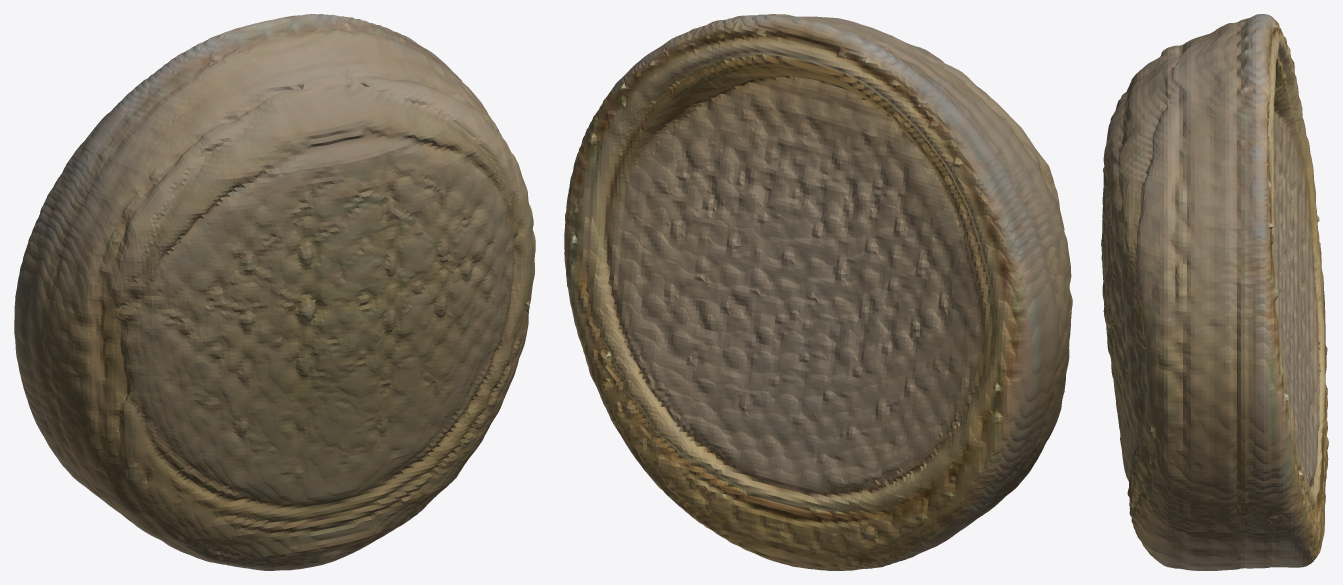
The picture shows the model from 3 angles, left to right: view 1: azimuth 30°, elevation 25°; view 2: azimuth 150°, elevation 25°; view 3: azimuth 270°, elevation 25°; orthographic projection. The views are drawn at different scales.
Parts seen in each view (by area): view 1: world; view 2: world; view 3: world.
Part boxes in pixels (<box>): world: <box>14,14,535,570</box>; world: <box>564,14,1072,570</box>; world: <box>1101,14,1328,570</box>.
Size of the model in its own units: 0.9555 by 0.9973 by 0.4031.
